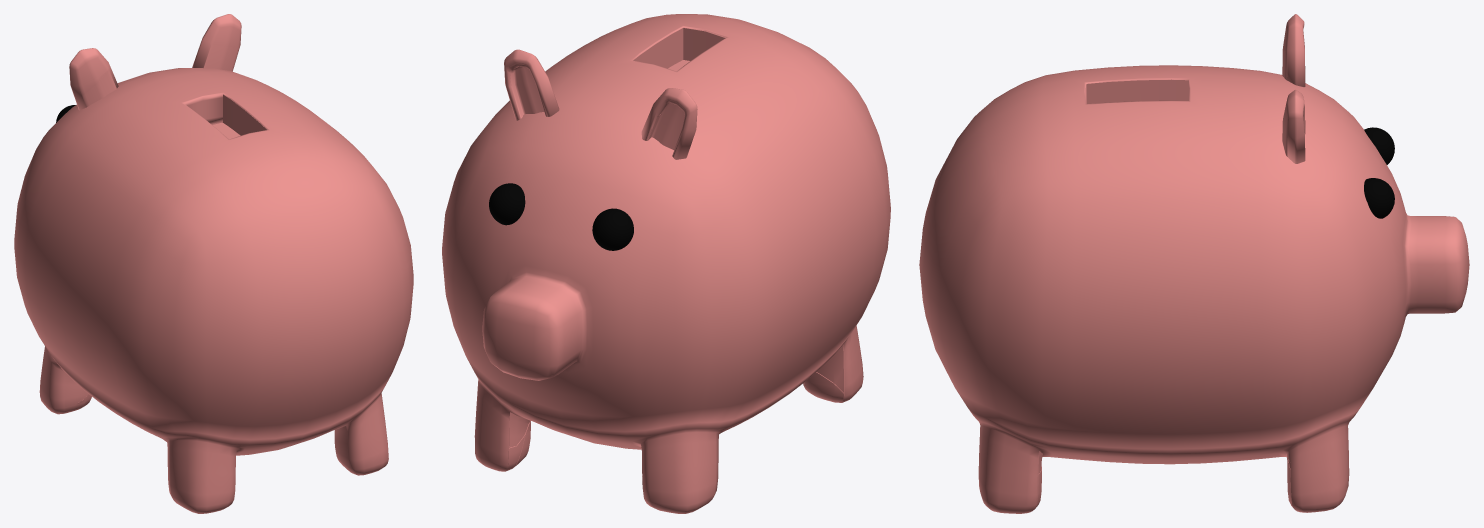
File: M_Pigbank.fbx
3 renders of one model, left to right at view 1: azimuth 30°, elevation 25°; view 2: azimuth 150°, elevation 25°; view 3: azimuth 270°, elevation 25°, orthographic. The views are drawn at different scales.
Visible parts, largest first — view 1: pigbank, pigbank_cell.009, pigbank_cell.023, pigbank_cell.005, pigbank_cell.011, pigbank_cell.004; view 2: pigbank, pigbank_cell.009, pigeyes.001, pigbank_cell.024, pigbank_cell.016, pigbank_cell.015; view 3: pigbank, pigbank_cell.009, pigeyes.001.
Part boxes in pixels (x1,y1,x2,y2): pigbank: [14, 14, 413, 513]; pigbank_cell.009: [211, 94, 266, 139]; pigbank_cell.023: [203, 44, 239, 71]; pigbank_cell.005: [82, 69, 116, 107]; pigbank_cell.011: [64, 372, 88, 407]; pigbank_cell.004: [334, 426, 348, 469]; pigbank: [442, 14, 890, 513]; pigbank_cell.009: [633, 27, 725, 71]; pigeyes.001: [489, 183, 631, 250]; pigbank_cell.024: [804, 372, 844, 401]; pigbank_cell.016: [817, 344, 844, 393]; pigbank_cell.015: [509, 412, 530, 448]; pigbank: [919, 14, 1469, 513]; pigbank_cell.009: [1085, 79, 1188, 104]; pigeyes.001: [1364, 128, 1394, 218].
Size of the model in its own units: 0.5732 by 0.6622 by 0.8076.
